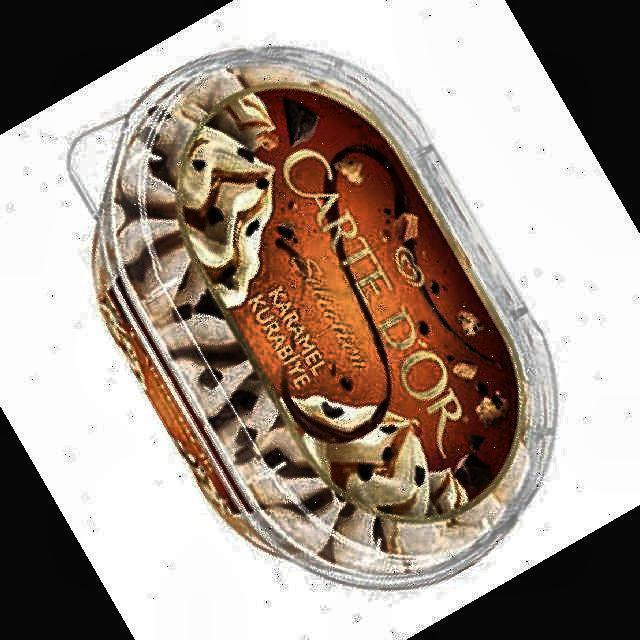plastic: (68, 49, 551, 587)
